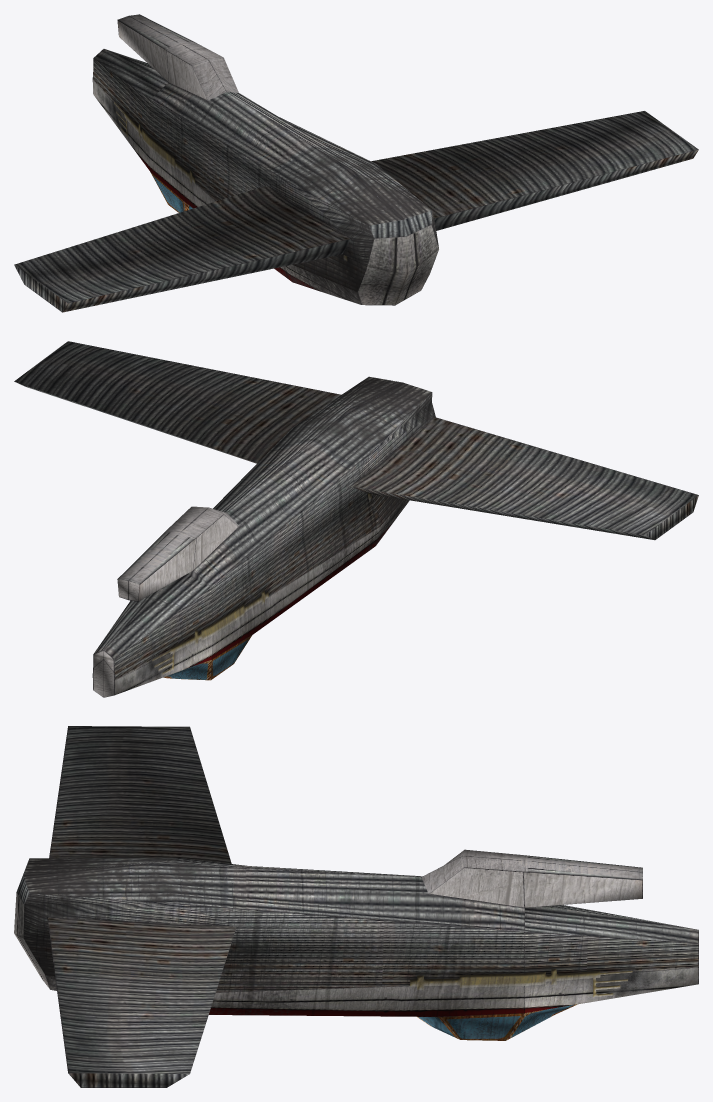
File: steelship.fbx
3 renders of one model, top to bottom at view 1: azimuth 30°, elevation 25°; view 2: azimuth 150°, elevation 25°; view 3: azimuth 270°, elevation 25°, orthographic. The views are drawn at different scales.
Parts seen in each view (by area): view 1: Cube; view 2: Cube; view 3: Cube.
Boxes of the visible parts, x1=… form: Cube: x1=14, y1=14, x2=698, y2=312; Cube: x1=14, y1=341, x2=698, y2=697; Cube: x1=14, y1=726, x2=698, y2=1087.
Bounding box in the file's own units: 114 × 26.51 × 94.99.
